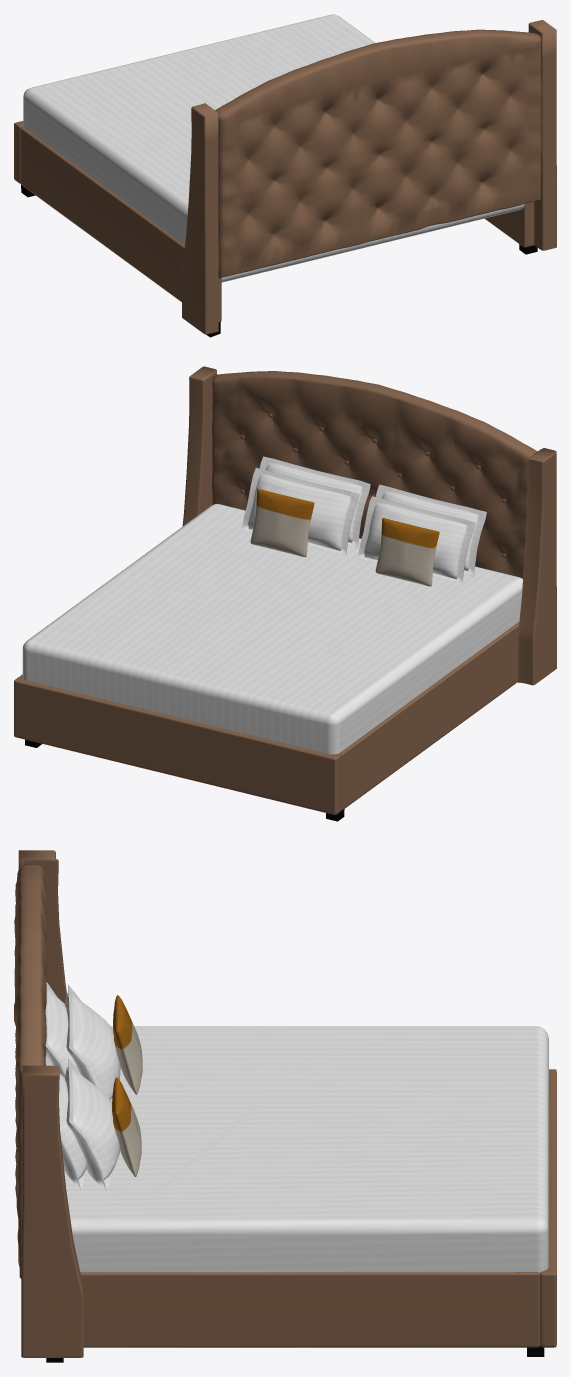
The model's file is bed.glb.
The picture shows the model from 3 angles, top to bottom: view 1: azimuth 30°, elevation 25°; view 2: azimuth 150°, elevation 25°; view 3: azimuth 270°, elevation 25°; orthographic projection. The views are drawn at different scales.
Parts seen in each view (by area): view 1: valvet, fabric; view 2: fabric, valvet; view 3: fabric, valvet.
Part boxes in pixels (x1=…): valvet: x1=14, y1=20, x2=556, y2=337; fabric: x1=23, y1=14, x2=524, y2=282; fabric: x1=22, y1=456, x2=522, y2=754; valvet: x1=14, y1=366, x2=556, y2=821; fabric: x1=45, y1=982, x2=548, y2=1273; valvet: x1=14, y1=850, x2=556, y2=1362.
Bounding box in the file's own units: 2188 × 1497 × 2231.
Materials: 2 (2 with a texture image).
